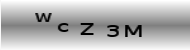3: (105, 24, 120, 37)
M: (123, 24, 142, 38)
Z: (79, 22, 95, 36)
c: (56, 22, 69, 32)
w: (34, 12, 52, 22)
